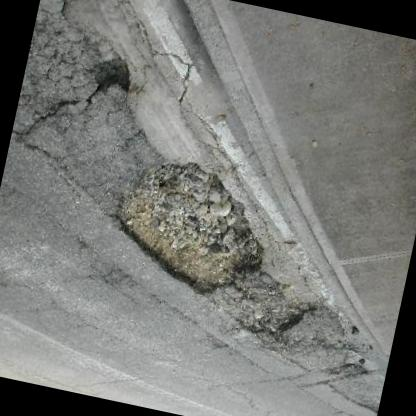pothole: (98, 146, 285, 314), (232, 286, 321, 352), (87, 52, 138, 102), (328, 345, 372, 385), (354, 393, 380, 416)
